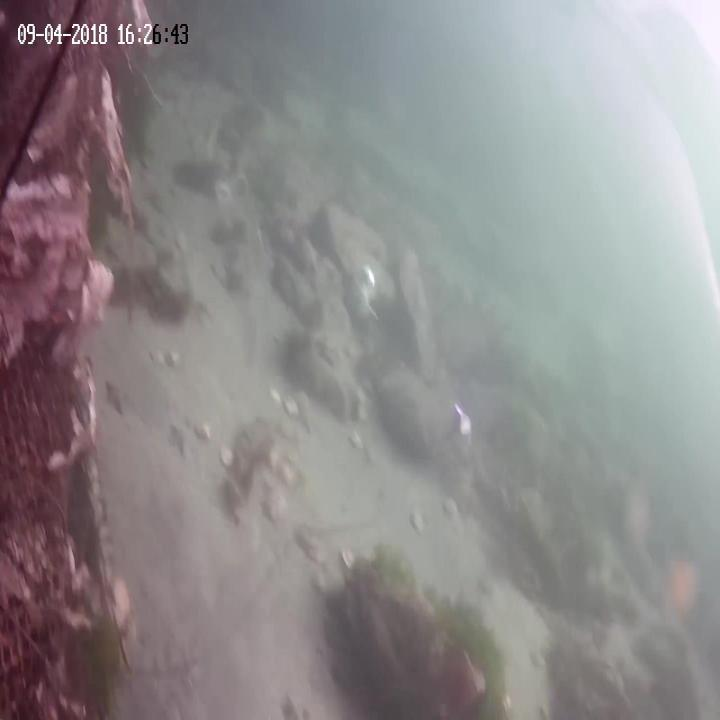scallop: (340, 544, 360, 576), (266, 489, 287, 519), (408, 507, 426, 533), (218, 443, 234, 467), (347, 428, 363, 446)
